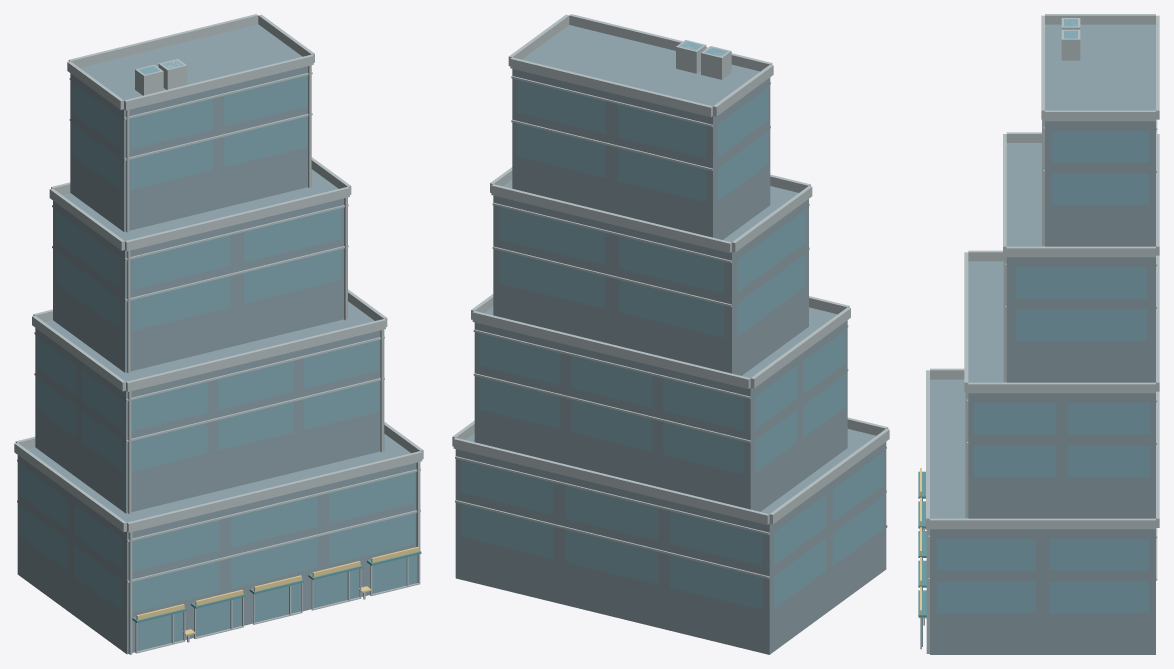
The model's file is commercial_3x2_terraces.glb.
3 renders of one model, left to right at view 1: azimuth 30°, elevation 25°; view 2: azimuth 150°, elevation 25°; view 3: azimuth 270°, elevation 25°, orthographic. The views are drawn at different scales.
Visible parts, largest first — view 1: commercial_3x2_terraces_0; view 2: commercial_3x2_terraces_0; view 3: commercial_3x2_terraces_0.
Part boxes in pixels (x1,y1,x2,y2): commercial_3x2_terraces_0: (14, 14, 423, 654); commercial_3x2_terraces_0: (452, 14, 889, 654); commercial_3x2_terraces_0: (918, 14, 1159, 654).
Bounding box in the file's own units: 23 × 37.5 × 15.5.
